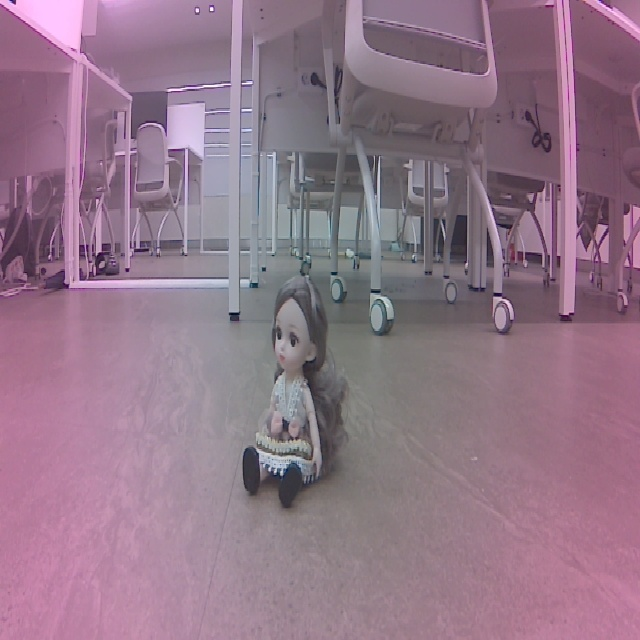장애물: (244, 261, 363, 514)
